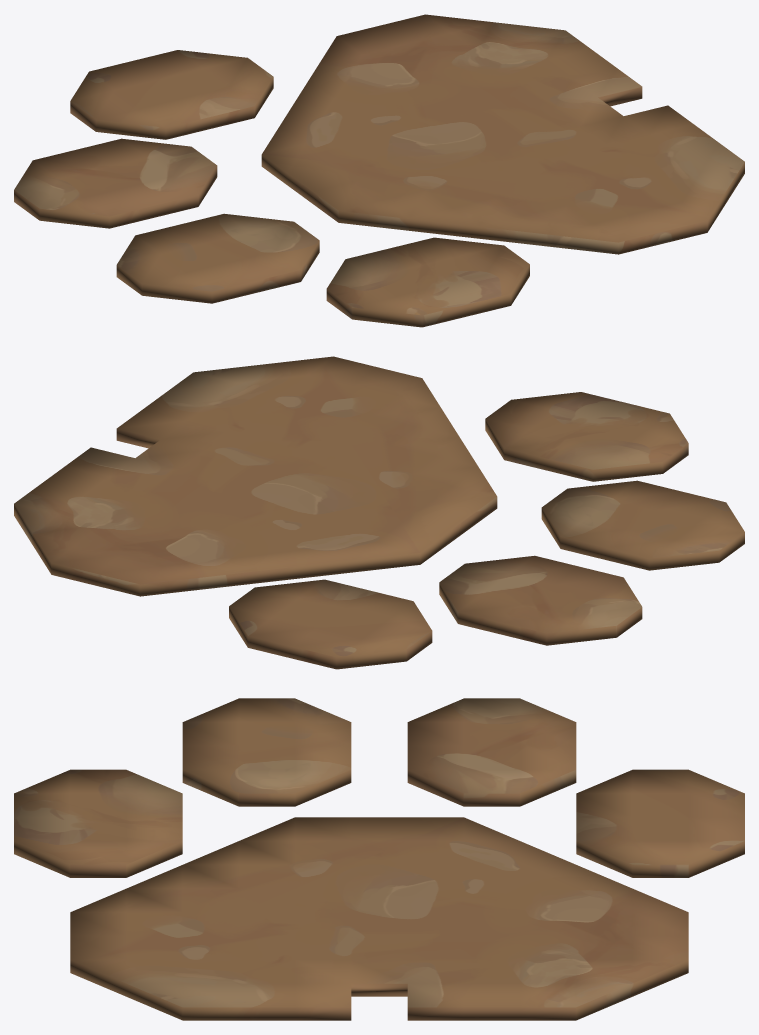
Rendered from CatPaw.fbx.
3 renders of one model, top to bottom at view 1: azimuth 30°, elevation 25°; view 2: azimuth 150°, elevation 25°; view 3: azimuth 270°, elevation 25°, orthographic. The views are drawn at different scales.
Parts seen in each view (by area): view 1: Plane; view 2: Plane; view 3: Plane.
Boxes of the visible parts, bbox=[...] form: Plane: bbox=[14, 14, 744, 327]; Plane: bbox=[14, 356, 744, 669]; Plane: bbox=[14, 698, 744, 1020].
Size of the model in its own units: 8.63 by 0.1715 by 8.63.
1 material, 1 textured.
